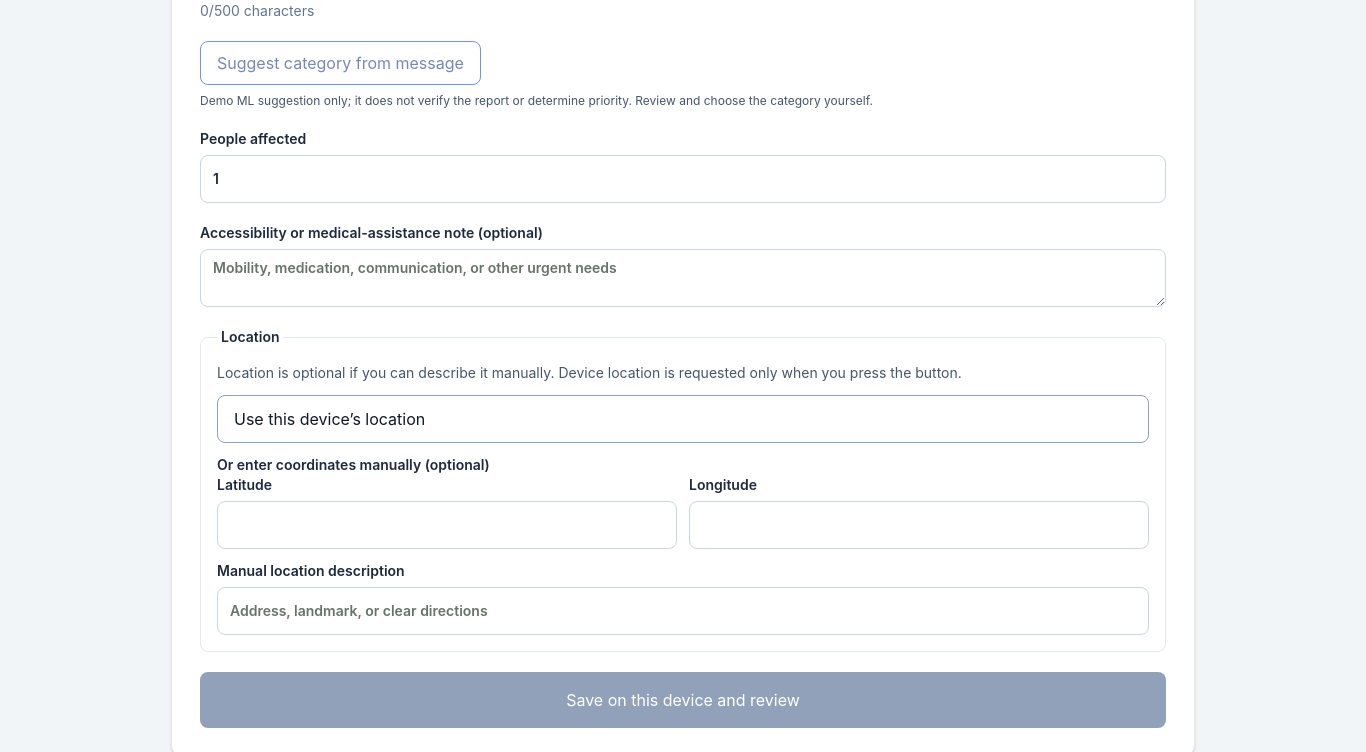
Test: offline emergency mode › retries pending synchronization after connectivity returns without creating another report
This screenshot has width=1366, height=752.
(page scrolled)
Type "Near the clinic" into the field labelled "Manual location description" at (683, 611), box [217,587,1149,635]
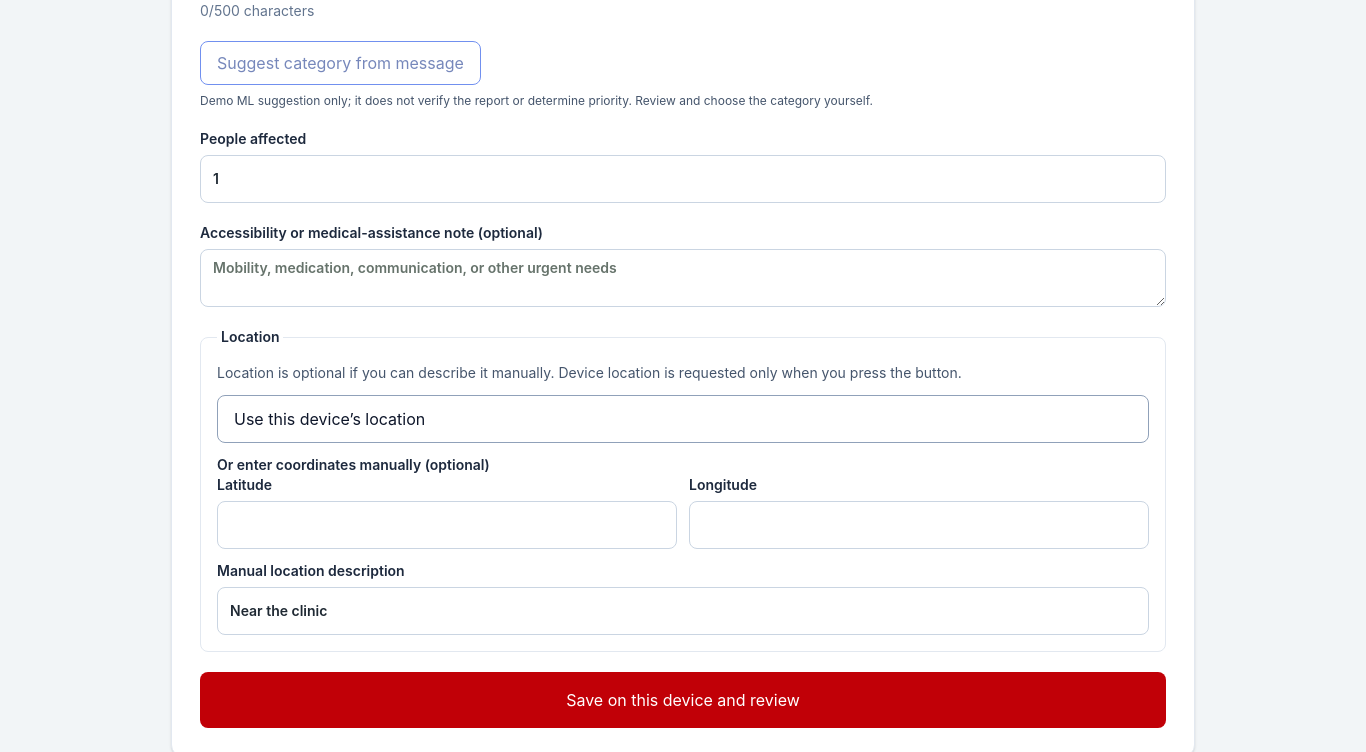
Click the button "Save on this device and review" at (683, 700), box [200,672,1166,728]
(page scrolled)
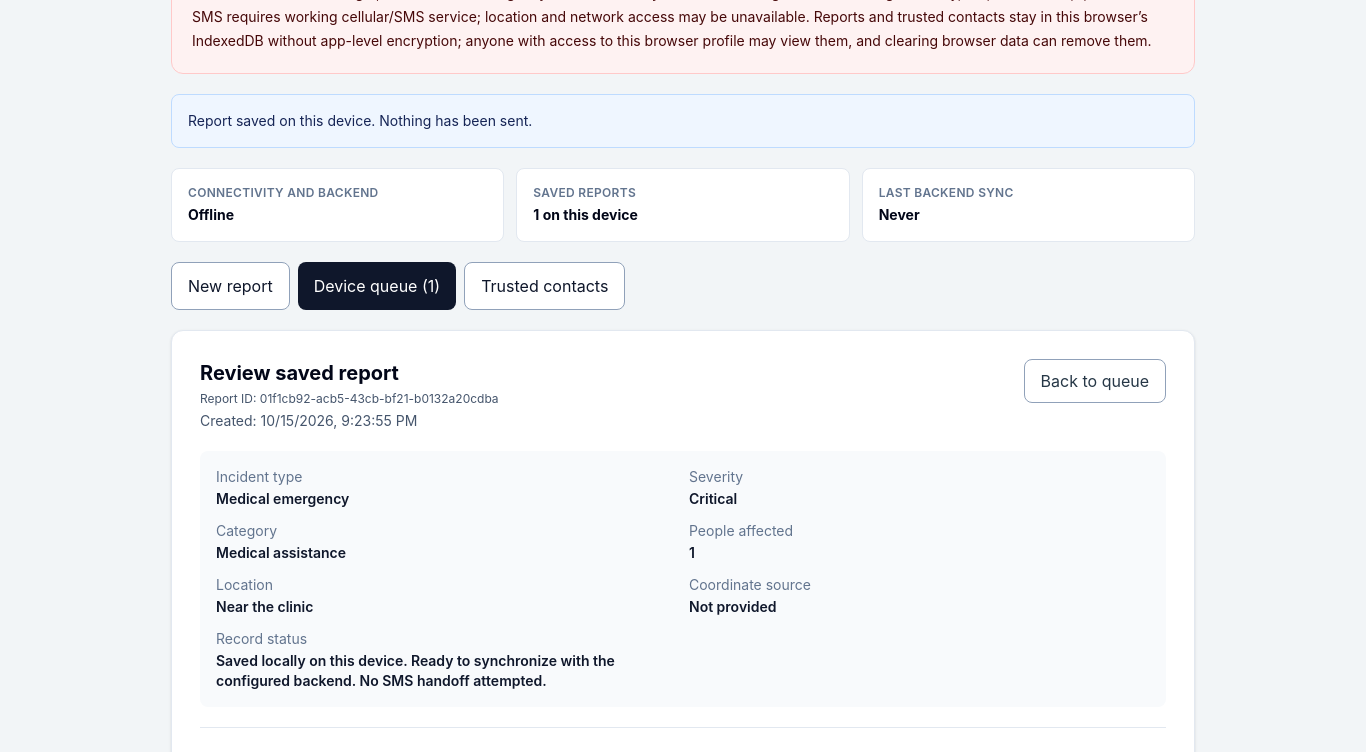
Now the heading "Review saved report" is shown, box [200,361,399,385]
